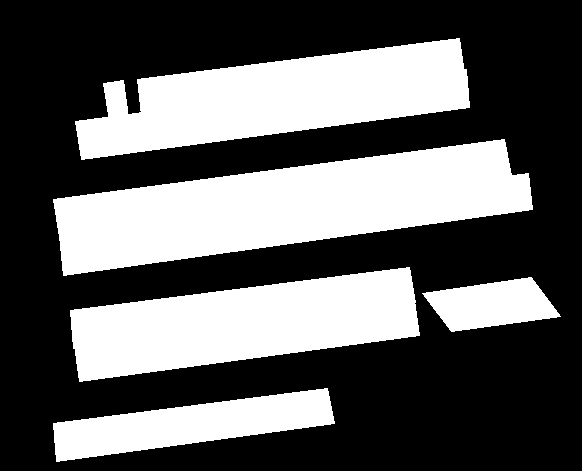parkingspot: (59, 173, 532, 275), (53, 139, 511, 237), (75, 69, 469, 159), (70, 267, 415, 348), (74, 300, 419, 381), (137, 38, 464, 115), (53, 388, 334, 461), (422, 277, 560, 331), (103, 80, 128, 121)
